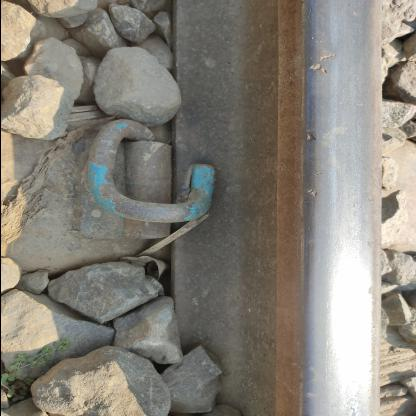Non Defective: (25, 75, 247, 286)
